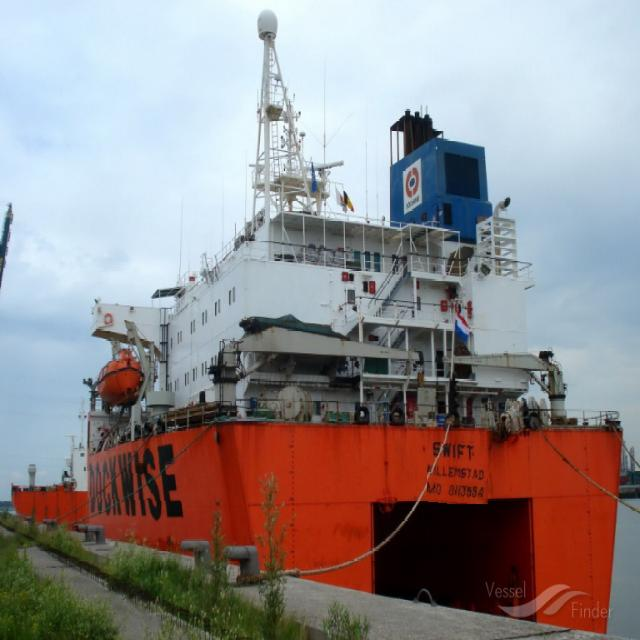OCR: (85, 457, 187, 523), (427, 434, 492, 504)
